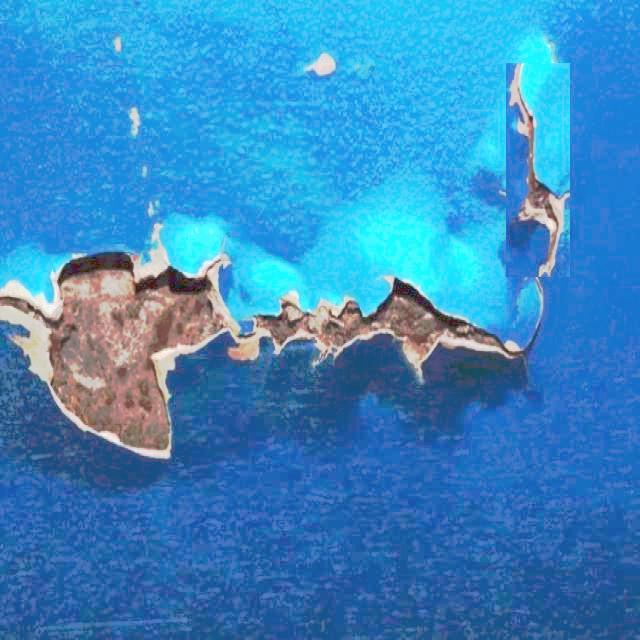Corrosion: (0, 224, 526, 459), (509, 64, 571, 280)
